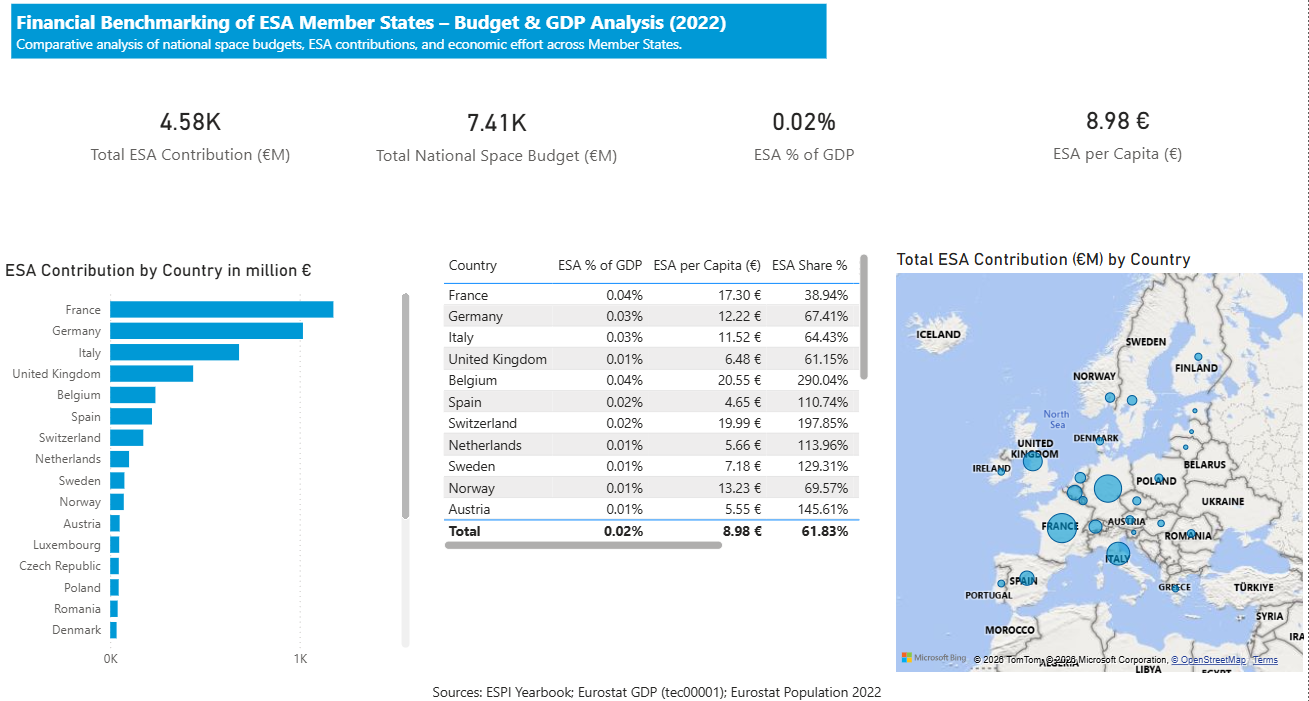

The dashboard page shown, as its layout file describes it:
{"tool":"powerbi","page":{"name":"Executive Overview","canvas":[1280,720],"ordinal":1},"visuals":[{"type":"card","fields":{"Values":["Dim_Country.Total ESA Contribution (€M)"]},"box":[62.4,81.9,248.2,143.1],"z":0},{"type":"card","fields":{"Values":["Dim_Country.Total National Space Budget (€M)"]},"box":[359.5,81.9,253.1,144.3],"z":1000},{"type":"card","fields":{"Values":["Dim_Country.ESA % of GDP"]},"box":[655.4,81.9,262.9,143.1],"z":2000},{"type":"card","fields":{"Values":["Dim_Country.ESA per Capita (€)"]},"box":[960,82.5,267.5,141.2],"z":3000},{"type":"clusteredBarChart","title":"ESA Contribution by Country in million €","fields":{"Category":["Dim_Country.Country"],"Y":["Sum(ESA_Yearbook_2022.ESA_Contribution_EUR_M)"]},"box":[0,278.8,406,408.4],"z":4000},{"type":"tableEx","fields":{"Values":["Dim_Country.Country","Dim_Country.ESA % of GDP","Dim_Country.ESA per Capita (€)","Dim_Country.ESA Share %","Sum(ESA_Yearbook_2022.ESA_Contribution_EUR_M)"]},"box":[428,267.8,426.8,299.6],"z":5000},{"type":"map","fields":{"Category":["Dim_Country.Country"],"Size":["Dim_Country.Total ESA Contribution (€M)"]},"box":[871.9,267.8,408.4,419.4],"z":6000},{"type":"textbox","box":[156.5,687.2,972.2,33],"z":7000},{"type":"textbox","box":[11,28.1,797.3,53.8],"z":8000}]}

Visuals, with their boxes on the page's 1280x720 design canvas (x1, y1, x2, y2). These are canvas units, not pixel positions in the 1309x701 screenshot, which may show the page scaled, cropped or inside an application window:
card - Dim_Country.Total ESA Contribution (€M): select_region(62, 82, 311, 225)
card - Dim_Country.Total National Space Budget (€M): select_region(360, 82, 613, 226)
card - Dim_Country.ESA % of GDP: select_region(655, 82, 918, 225)
card - Dim_Country.ESA per Capita (€): select_region(960, 82, 1228, 224)
"ESA Contribution by Country in million €" clusteredBarChart: select_region(0, 279, 406, 687)
tableEx - Dim_Country.Country x Dim_Country.ESA % of GDP: select_region(428, 268, 855, 567)
map - Dim_Country.Country x Dim_Country.Total ESA Contribution (€M): select_region(872, 268, 1280, 687)
textbox: select_region(156, 687, 1129, 720)
textbox: select_region(11, 28, 808, 82)
